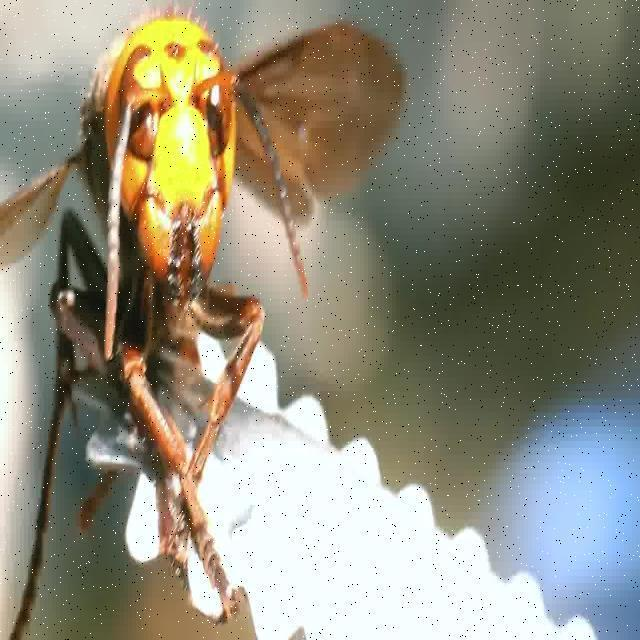Wasp: (5, 2, 404, 622)
